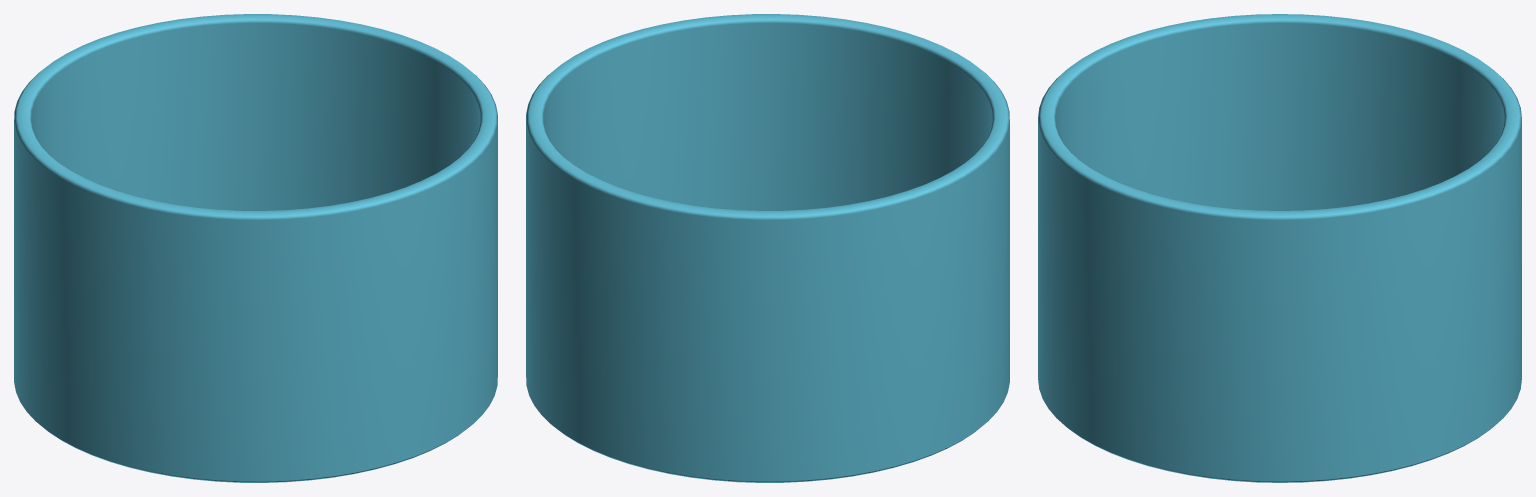
3 renders of one model, left to right at view 1: azimuth 30°, elevation 25°; view 2: azimuth 150°, elevation 25°; view 3: azimuth 270°, elevation 25°, orthographic.
Parts seen in each view (by area): view 1: seal_body; view 2: seal_body; view 3: seal_body.
Part boxes in pixels (x1,y1,x2,y2): seal_body: (14,14,497,482); seal_body: (526,14,1009,482); seal_body: (1038,14,1521,482).
Bounding box in the file's own units: 0.041 × 0.025 × 0.041.
